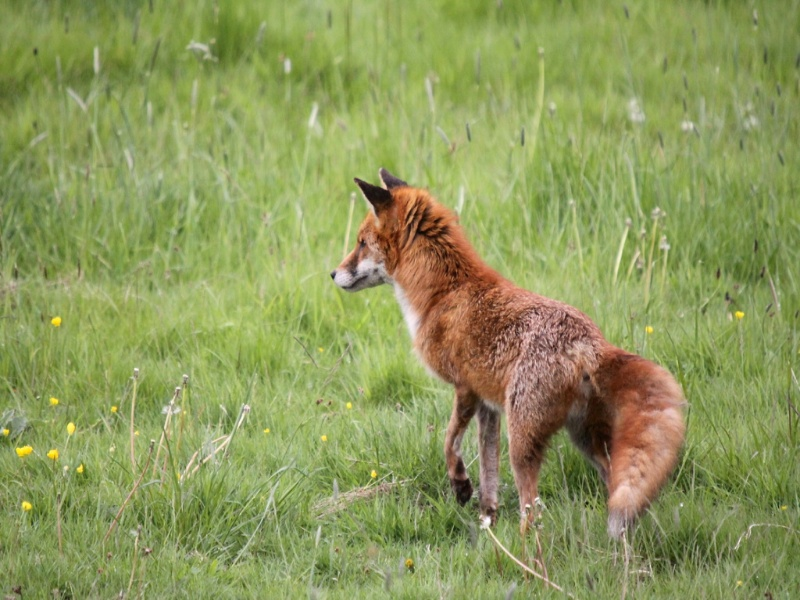fox: (328, 168, 686, 548)
